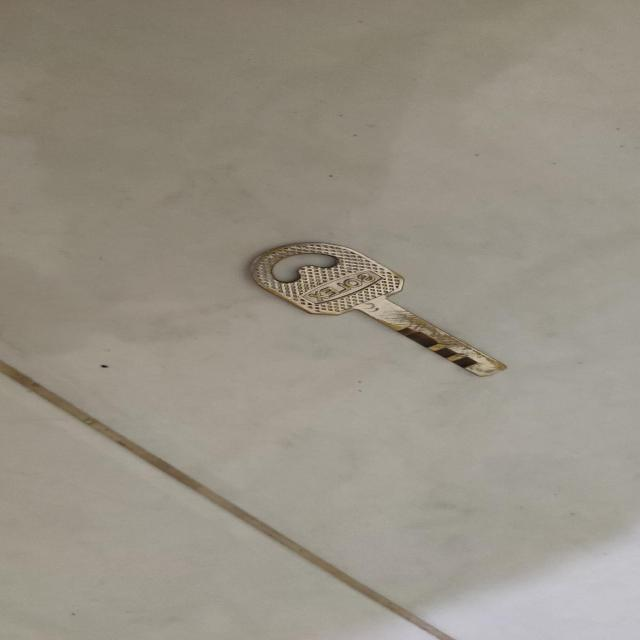kunci_pagar: (249, 228, 521, 368)
